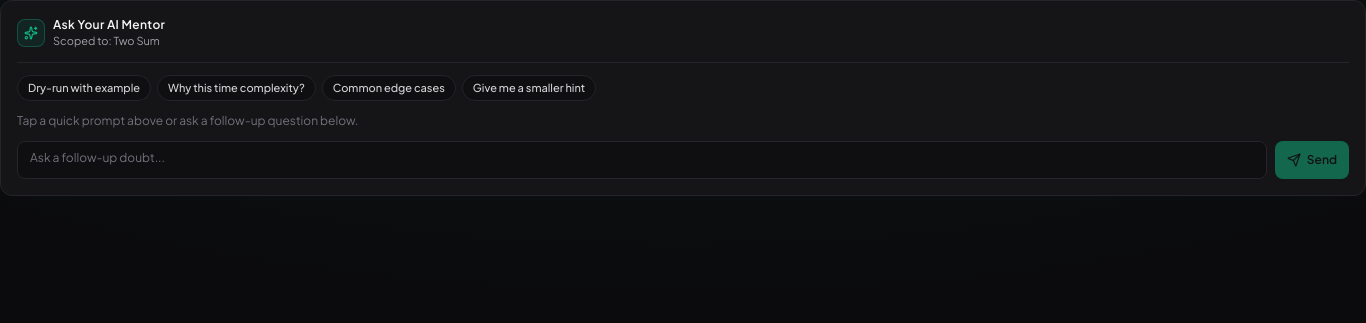
Test: <AiTutorChat /> › sends a custom follow-up question and supports Clear
In the text box labelled "Ask a follow-up doubt": (642, 160) [17, 141, 1267, 179], type "Why not sort first?"
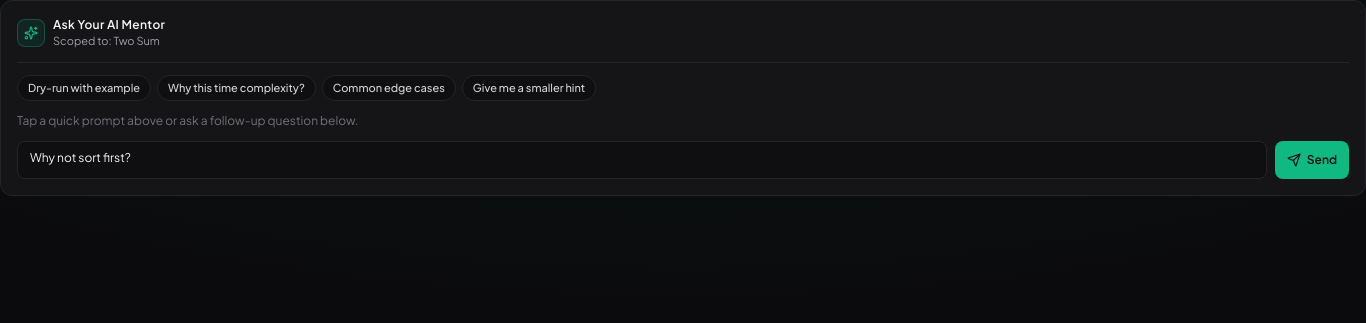
Click the button with aria-label "Send message": (1312, 160) [1275, 141, 1349, 179]
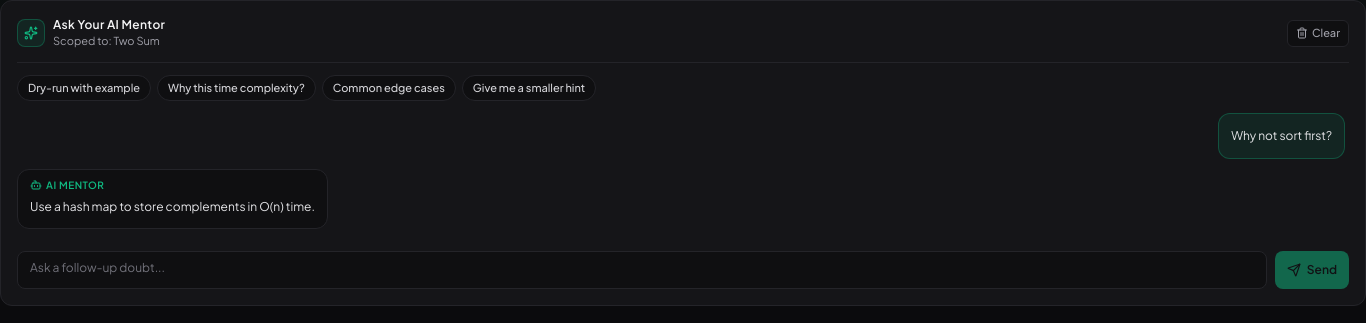
Check: the text "Use a hash map to store complements in O(n) time." is shown, box [30, 196, 315, 216]
Click the button "Clear": (1318, 33) [1287, 20, 1349, 46]
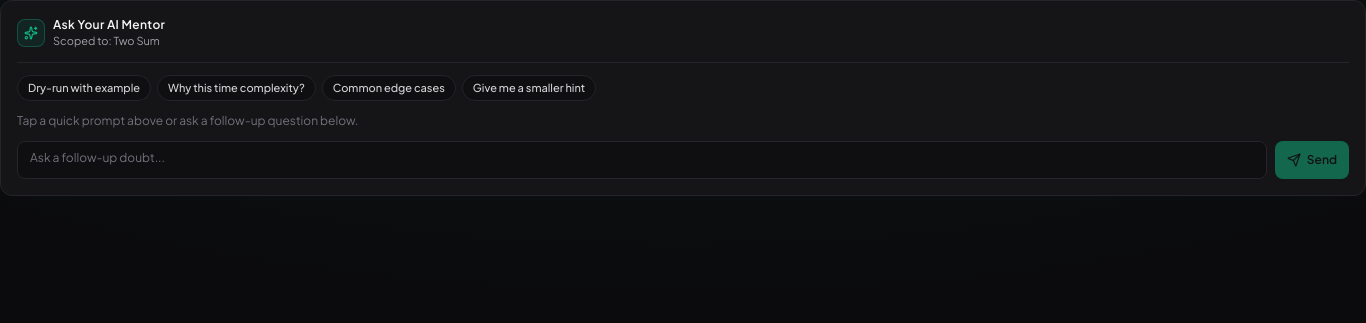
Check: the text "Use a hash map to store complements in O(n) time." is gone
